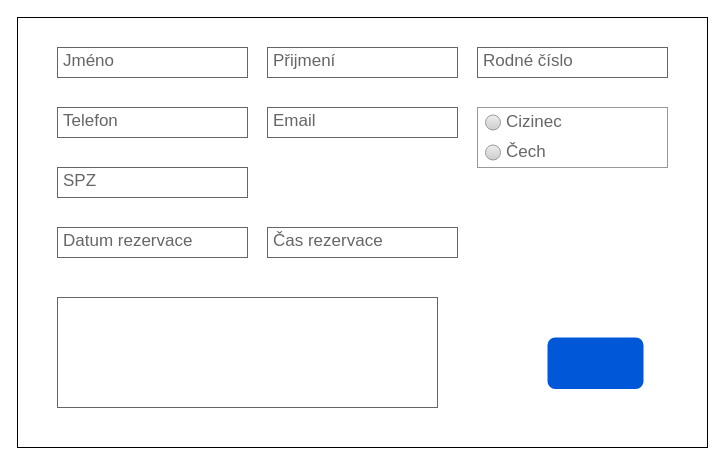
Image size: 725x465. Some labels were removed from this diagram. The centre of each missing label's shape, as x and y in pixels:
"Odeslat" goes at [595,362].
"Popis závady" goes at [247,352].
